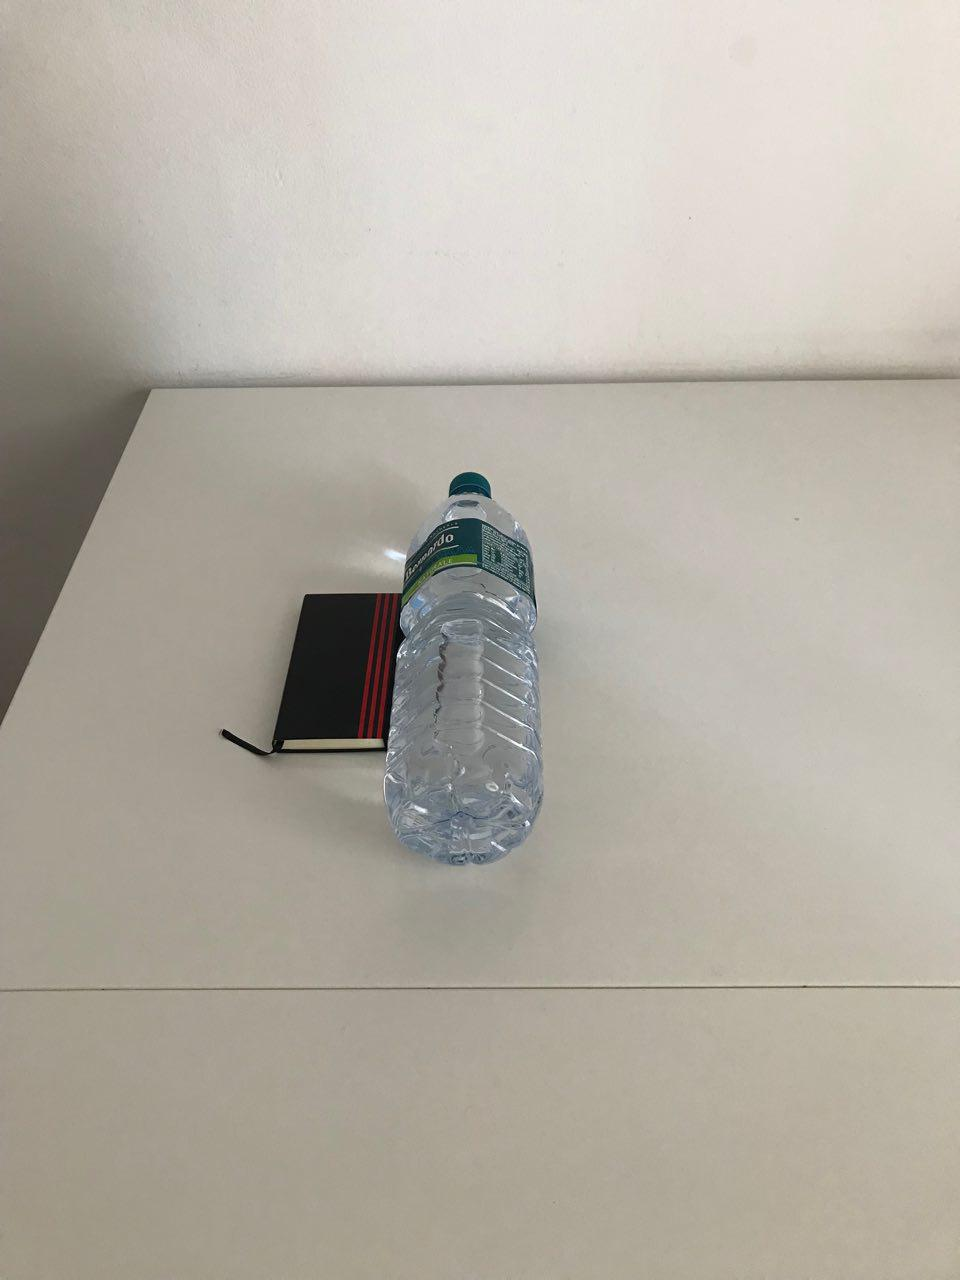san_bernardo: (381, 469, 545, 868)
